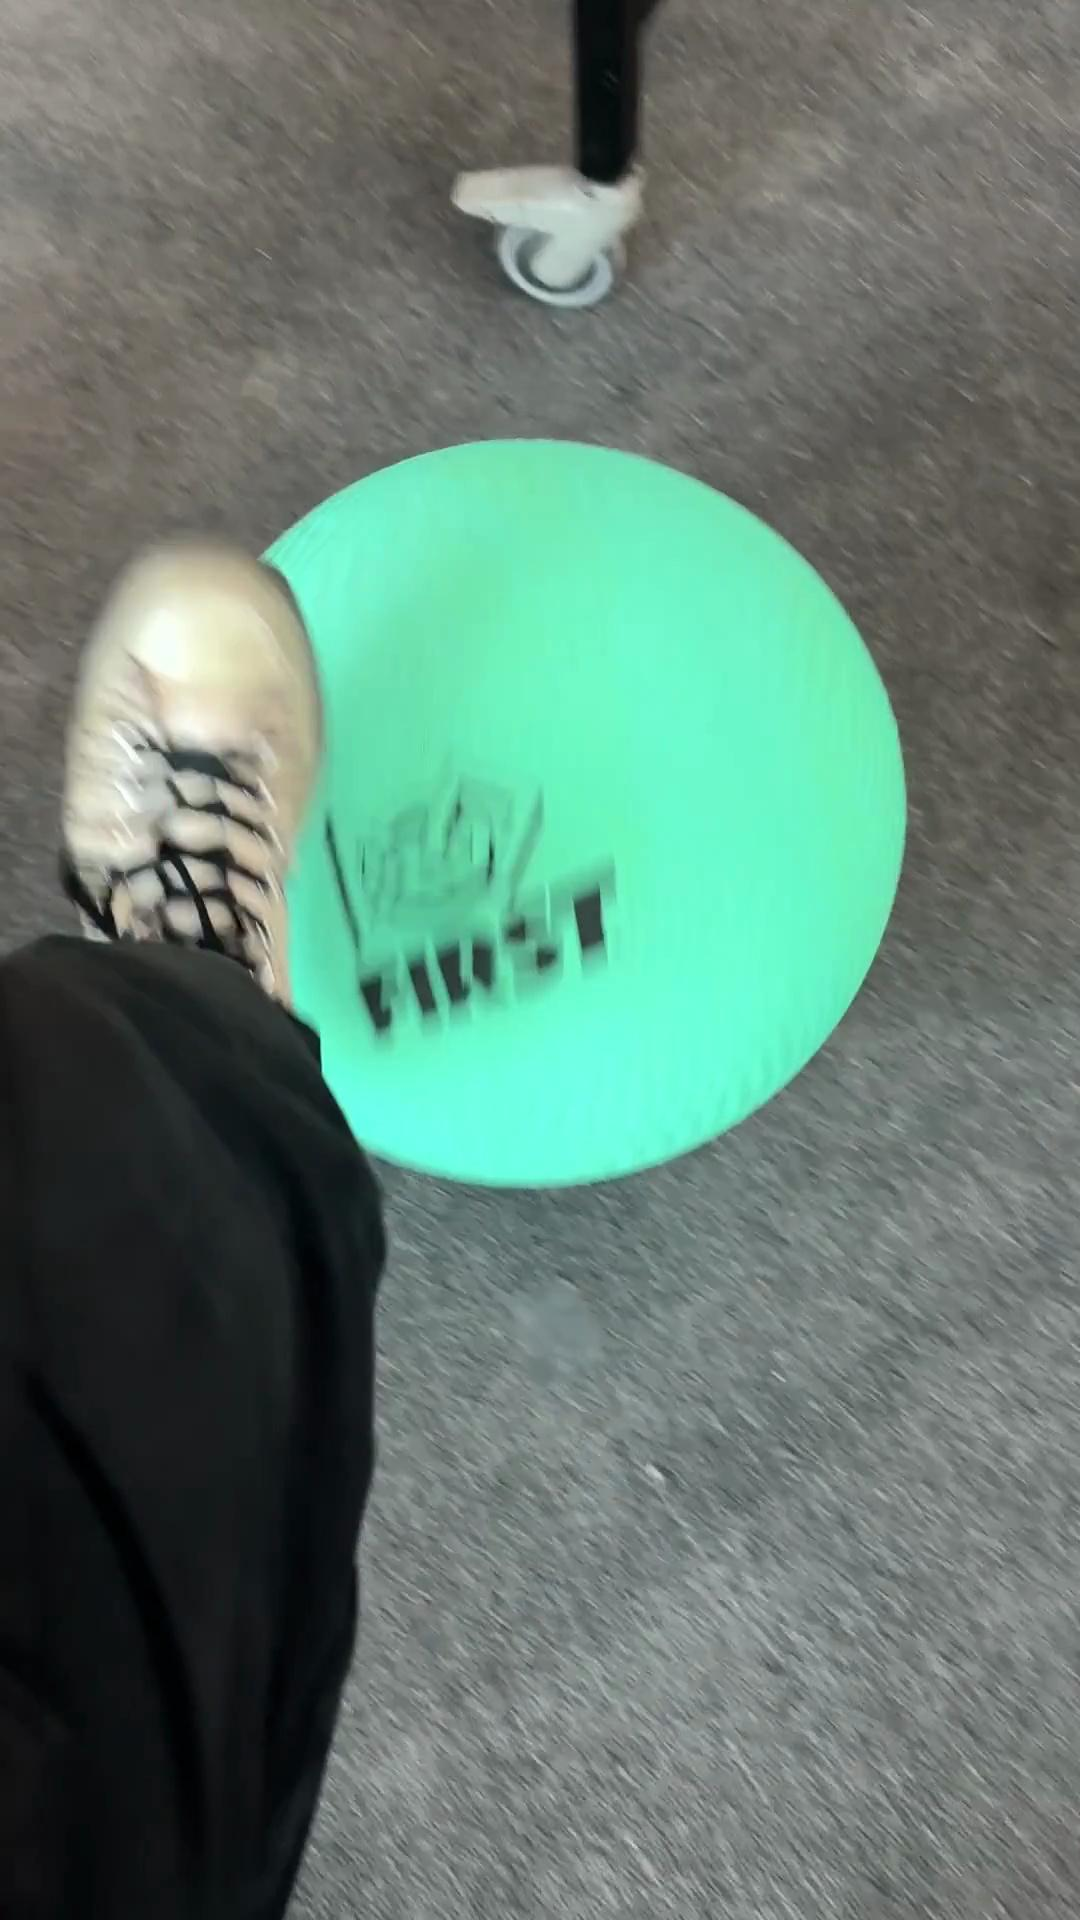ALGAE: (253, 433, 909, 1191)
